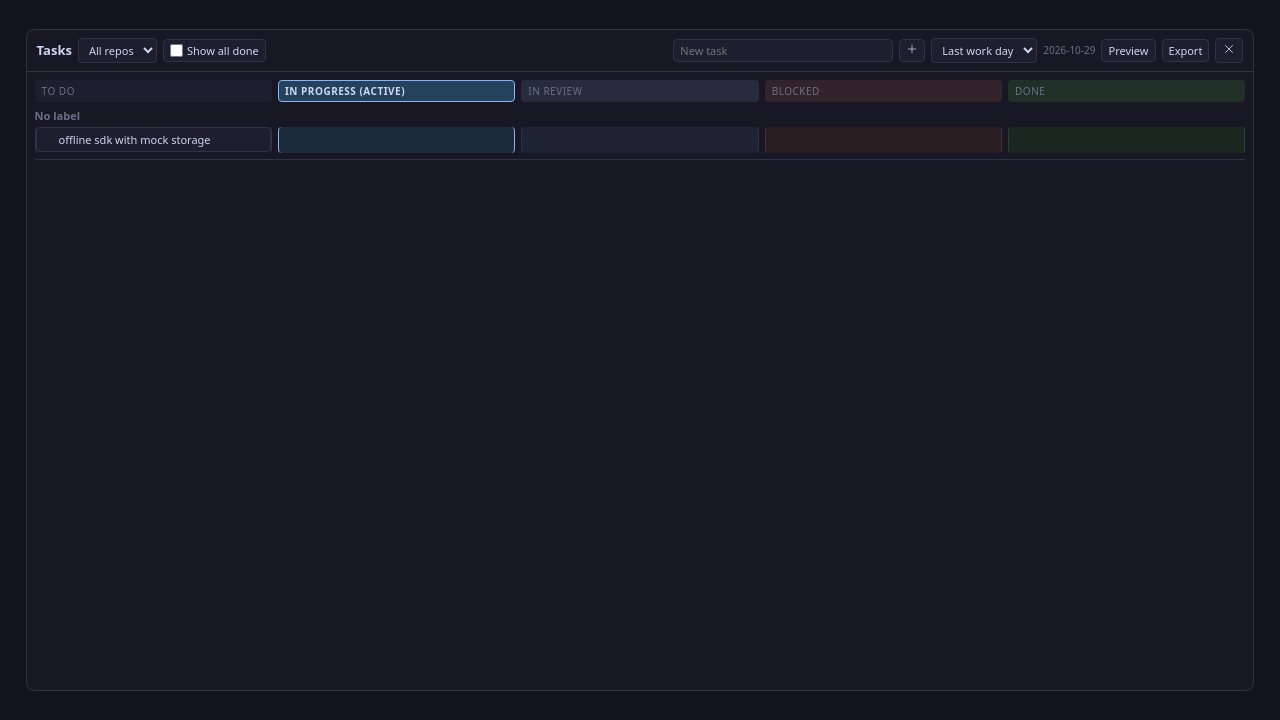
Test: creating a task opens its detail view › replaces the previously selected task when Enter creates a new one
Expected: the text "offline sdk with mock storage" is shown, [59,132,211,147]
Click the button "offline sdk with mock storage": (153, 139) [36,127,271,152]
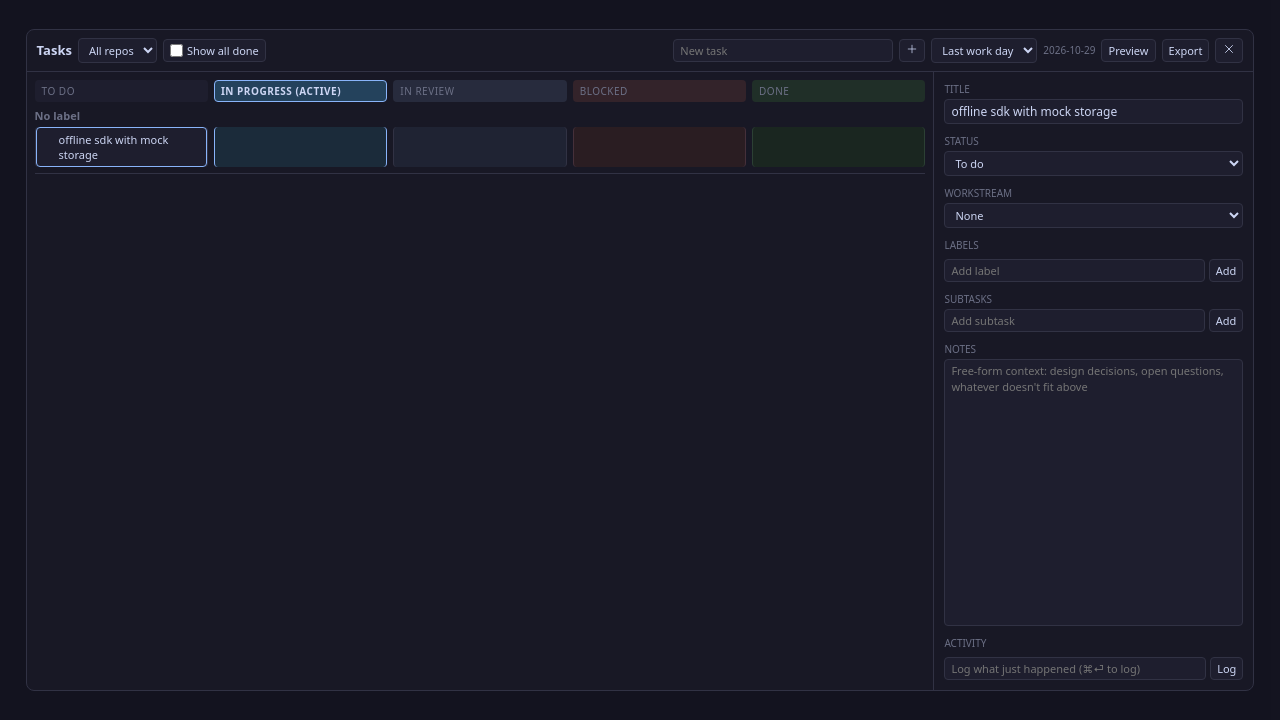
Now the field with test id "detail-title" holds "offline sdk with mock storage", box [944,99,1243,124]
In the field with test id "new-task-input": (783, 50) [673,39,893,62], type "media_store read API"
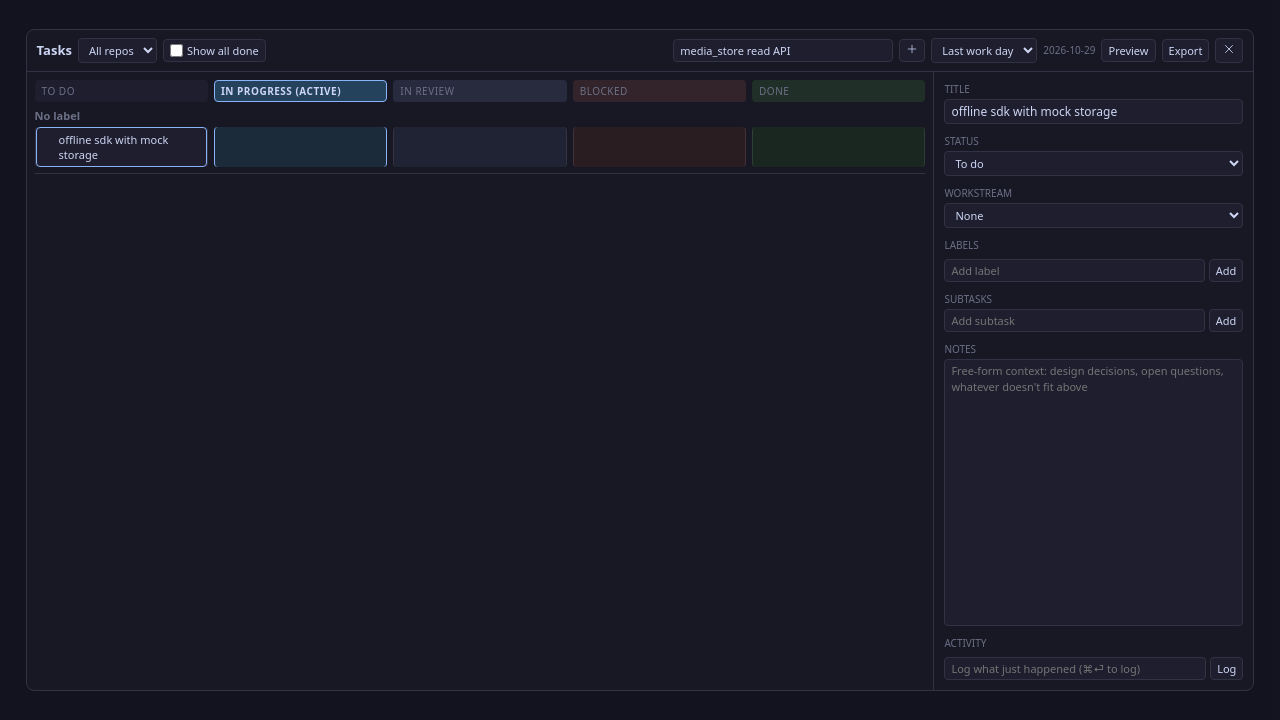
Press Enter in the field with test id "new-task-input", box [673,39,893,62]
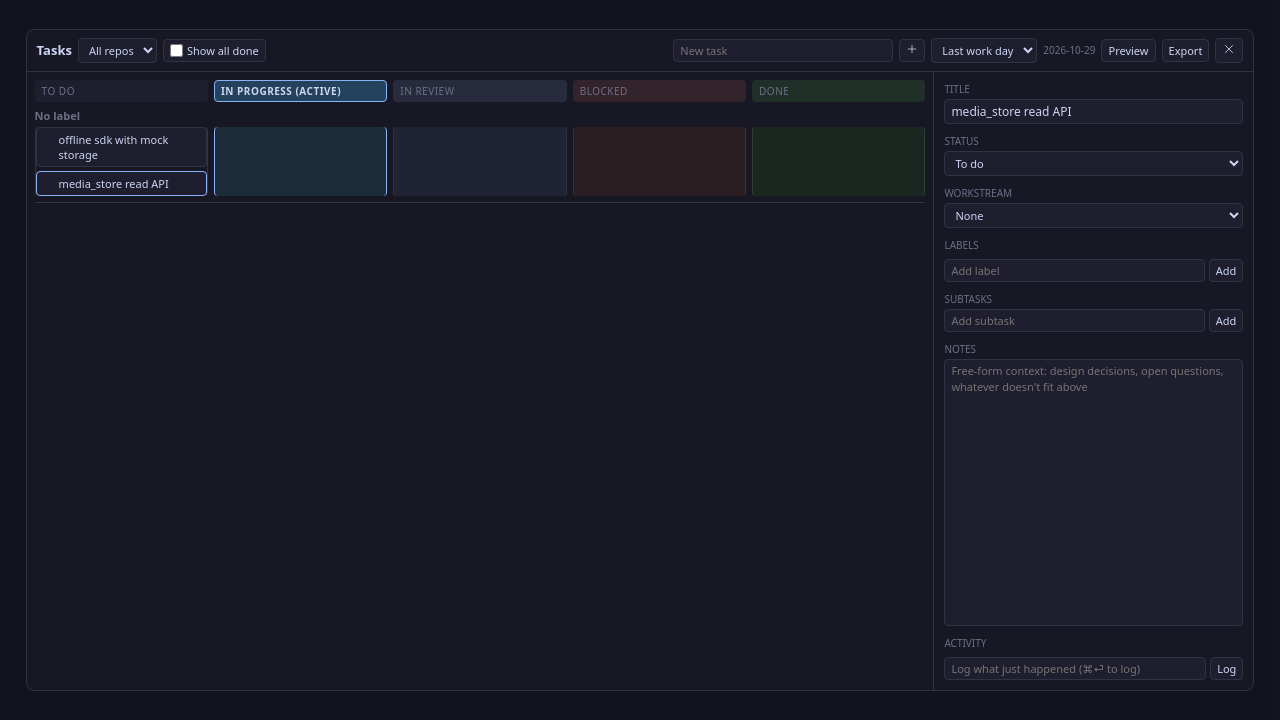
Now the text "media_store read API" is shown, box [59,176,169,191]
Now the field with test id "new-task-input" is empty, box [673,39,893,62]
